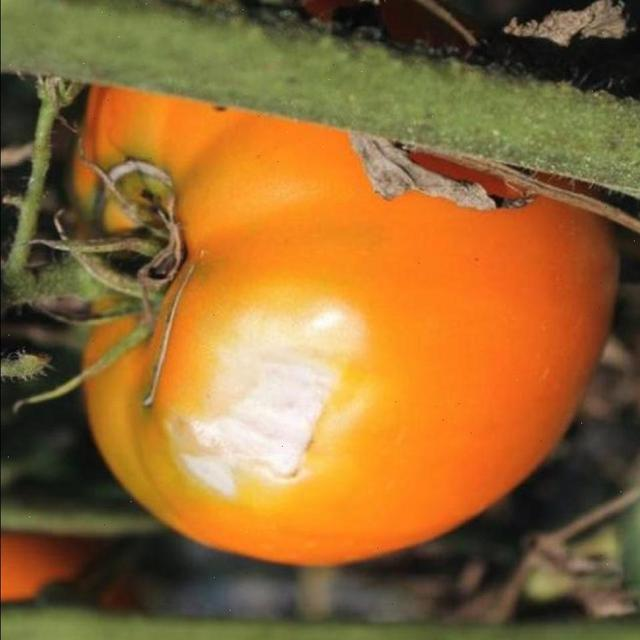Sunscald Fruit: (104, 189, 252, 344)
